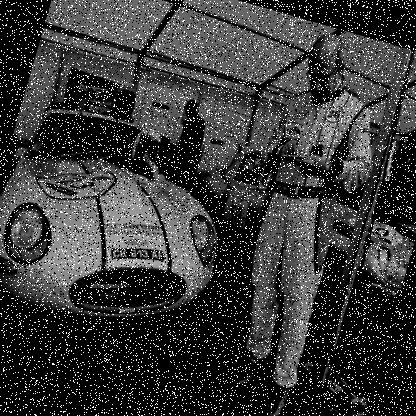Car: (0, 89, 257, 363), (171, 135, 415, 325), (339, 160, 415, 227)
